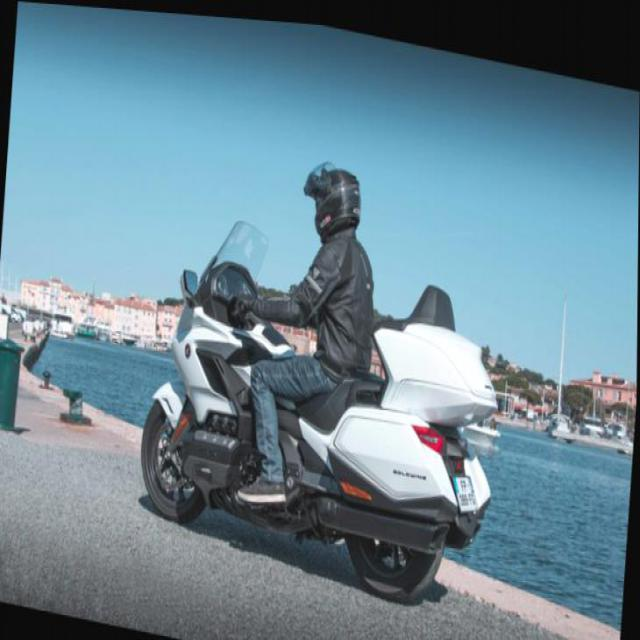Gold Wing: (135, 198, 510, 618)
